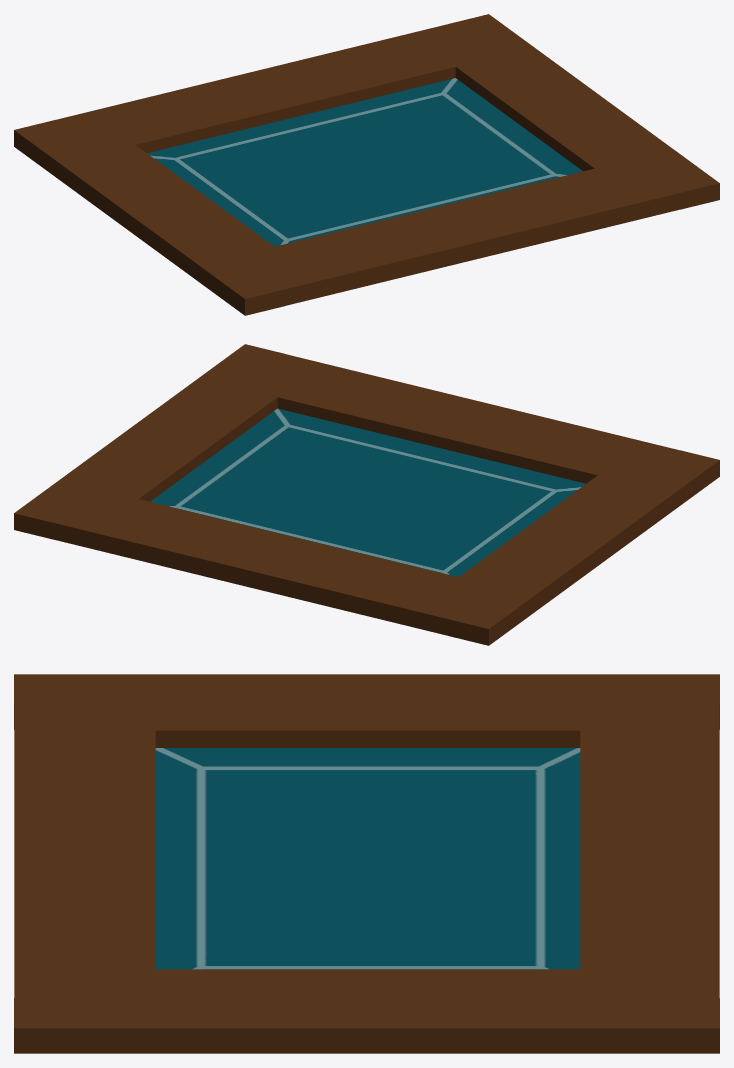
The picture shows the model from 3 angles, top to bottom: view 1: azimuth 30°, elevation 25°; view 2: azimuth 150°, elevation 25°; view 3: azimuth 270°, elevation 25°; orthographic projection. The views are drawn at different scales.
Parts seen in each view (by area): view 1: mapa, Cube.006, Cube.007, Cube.002, Cube.005, Cube.001, Cube.008, Cube.003, Cube.004; view 2: mapa, Cube.008, Cube.007, Cube.001, Cube.005, Cube.006, Cube.002, Cube.003, Cube.004; view 3: mapa, Cube.005, Cube.002, Cube.006, Cube.001, Cube.008, Cube.007, Cube.004, Cube.003.
Boxes of the visible parts, left/top/right/bottom form: mapa: left=147, top=78, right=582, bottom=246; Cube.006: left=257, top=176, right=679, bottom=305; Cube.007: left=14, top=121, right=284, bottom=315; Cube.002: left=77, top=40, right=494, bottom=154; Cube.005: left=449, top=14, right=719, bottom=209; Cube.001: left=235, top=159, right=655, bottom=273; Cube.008: left=49, top=24, right=470, bottom=136; Cube.003: left=455, top=57, right=632, bottom=171; Cube.004: left=96, top=145, right=274, bottom=256; mapa: left=150, top=408, right=585, bottom=576; Cube.008: left=54, top=506, right=470, bottom=635; Cube.007: left=449, top=450, right=719, bottom=645; Cube.001: left=238, top=370, right=660, bottom=484; Cube.005: left=14, top=344, right=284, bottom=539; Cube.006: left=261, top=354, right=683, bottom=468; Cube.002: left=78, top=489, right=497, bottom=603; Cube.003: left=100, top=387, right=277, bottom=501; Cube.004: left=459, top=475, right=633, bottom=586; mapa: left=155, top=748, right=580, bottom=969; Cube.005: left=14, top=998, right=719, bottom=1053; Cube.002: left=580, top=701, right=650, bottom=999; Cube.006: left=14, top=700, right=84, bottom=998; Cube.001: left=85, top=701, right=155, bottom=999; Cube.008: left=649, top=700, right=719, bottom=998; Cube.007: left=14, top=674, right=719, bottom=729; Cube.004: left=155, top=701, right=581, bottom=747; Cube.003: left=155, top=969, right=580, bottom=999.
Size of the model in its own units: 5931 by 245 by 5000.
Materials: 4 (1 with a texture image).
